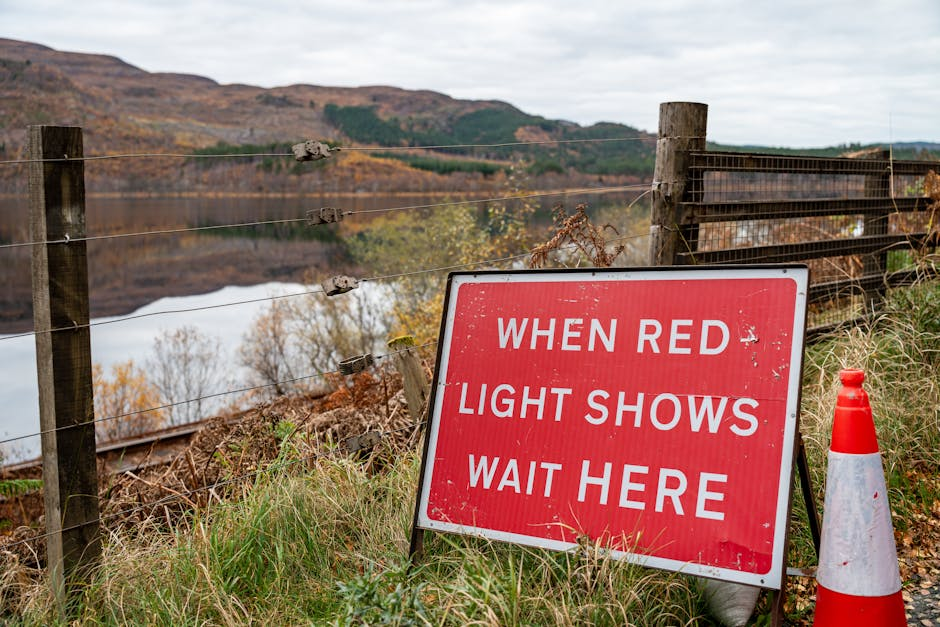traffic_cone: (812, 368, 909, 626)
